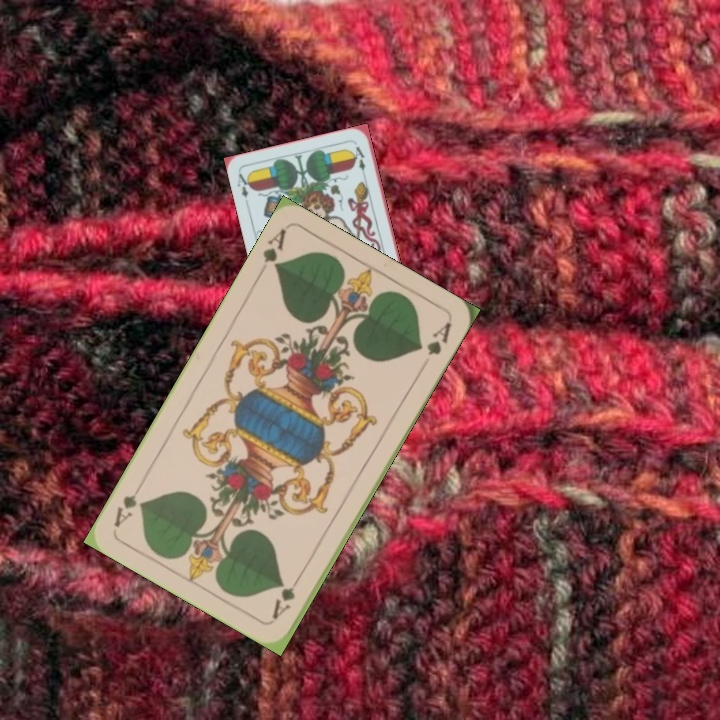EA: (233, 169, 254, 209)
GA: (254, 224, 290, 279), (268, 569, 305, 622)
